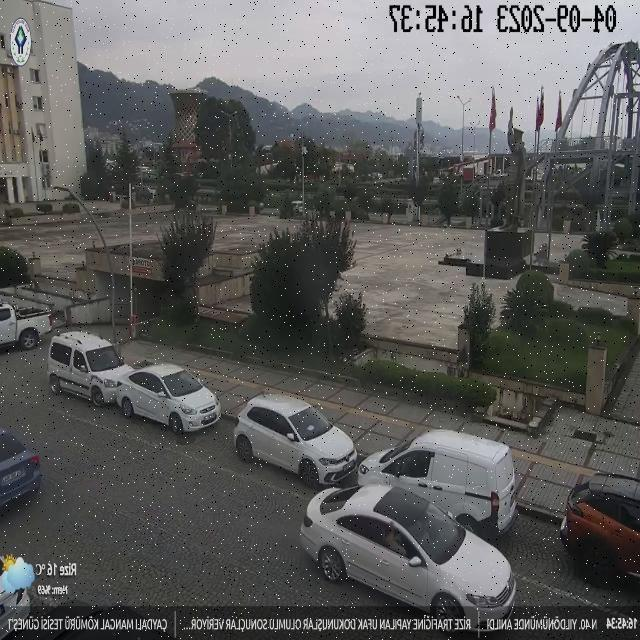Car: (294, 479, 520, 630), (356, 430, 518, 541), (236, 394, 361, 487), (560, 470, 638, 592), (110, 364, 221, 434), (47, 332, 135, 406), (1, 426, 44, 521)
Truck: (0, 304, 56, 351)
